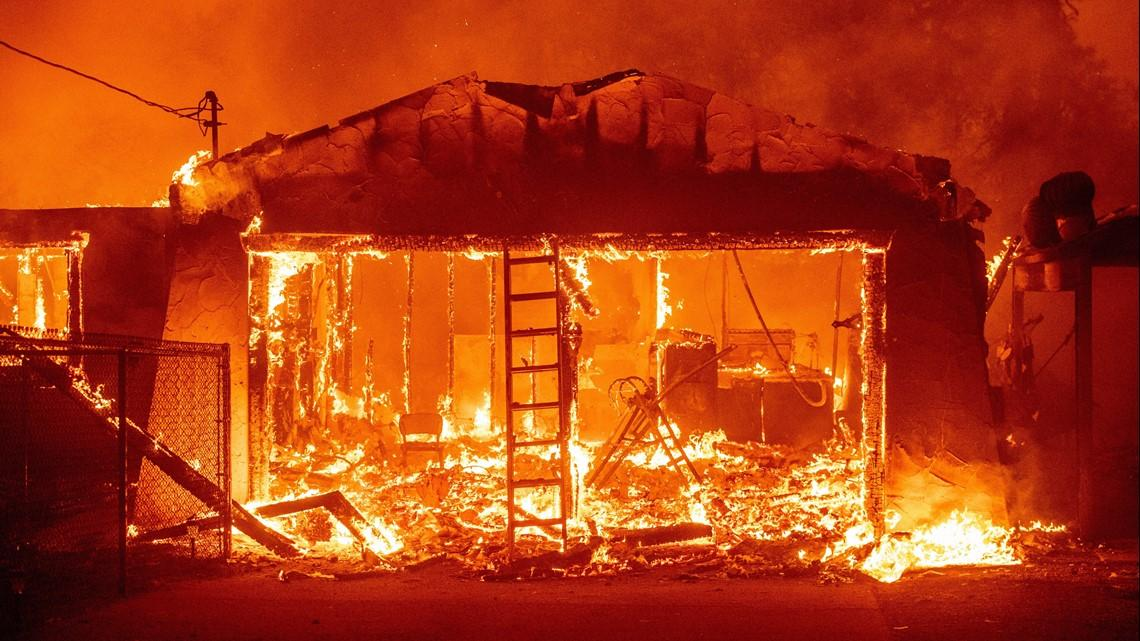Fire: (7, 144, 1103, 576)
